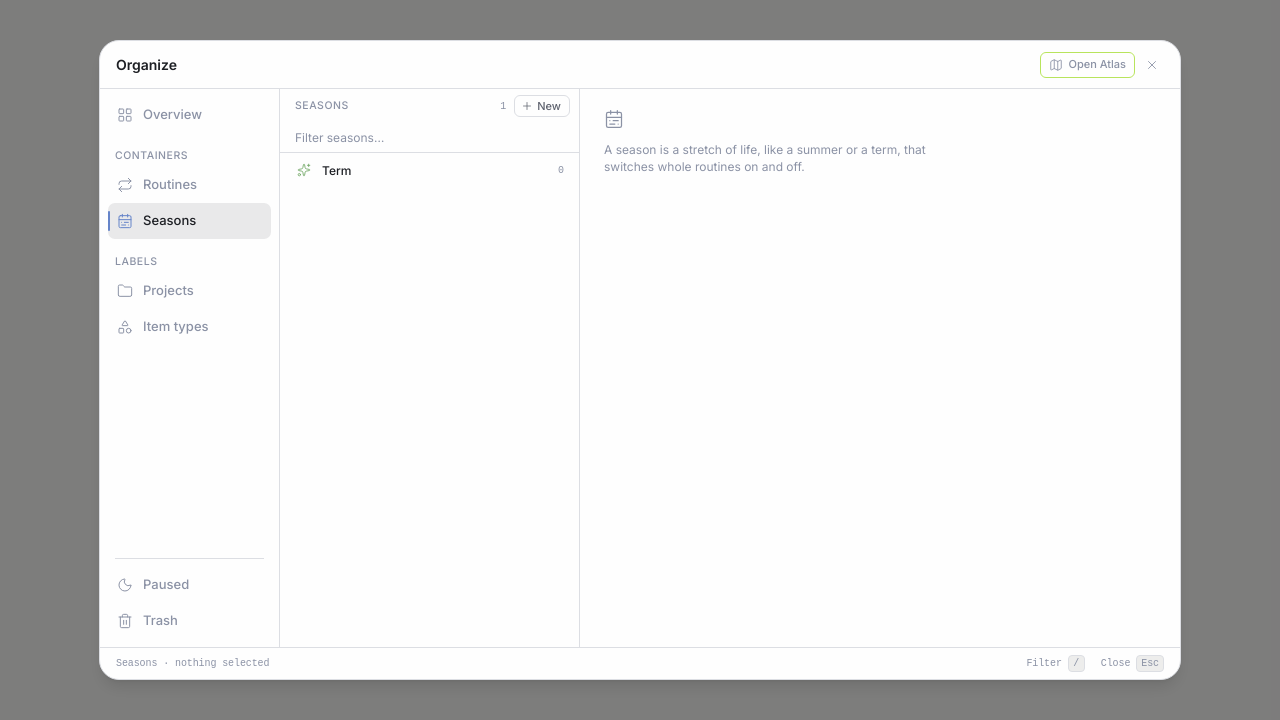
Test: the seasons section › states what auto with {"startsOn":"2026-06-01","endsOn":"2026-08-31"} actually means
The image size is (1280, 720).
Click the button with test id "season-row".
click(304, 170)  # box 288,153 -> 571,187
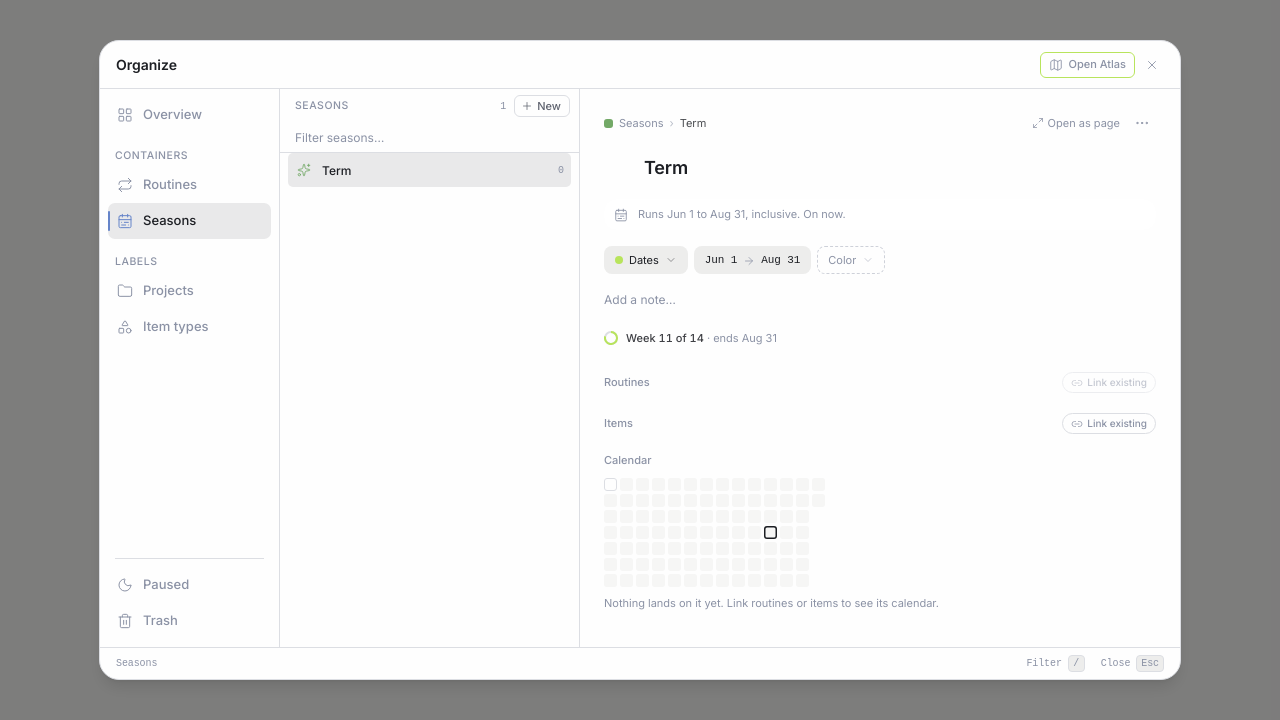
Check: the element with test id "season-state-note" reads "Runs Jun 1 to Aug 31, inclusive. On now.", box 638,207 -> 846,221
